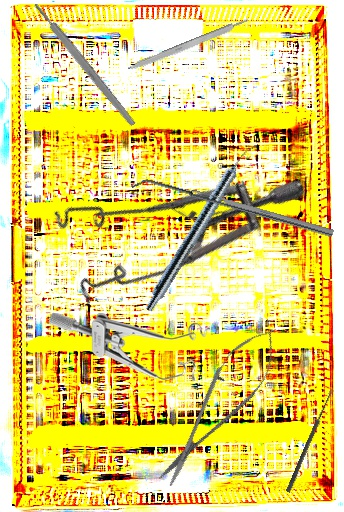Handpiece: (142, 137, 259, 316)
Micro Scissor: (144, 318, 291, 497)
Scalpel Handle: (32, 1, 137, 128), (127, 17, 250, 74)
Spatula Surgical: (130, 172, 335, 245)
Speculum: (24, 74, 309, 356), (49, 313, 211, 381)
Surgical Spoon: (285, 387, 335, 494)
